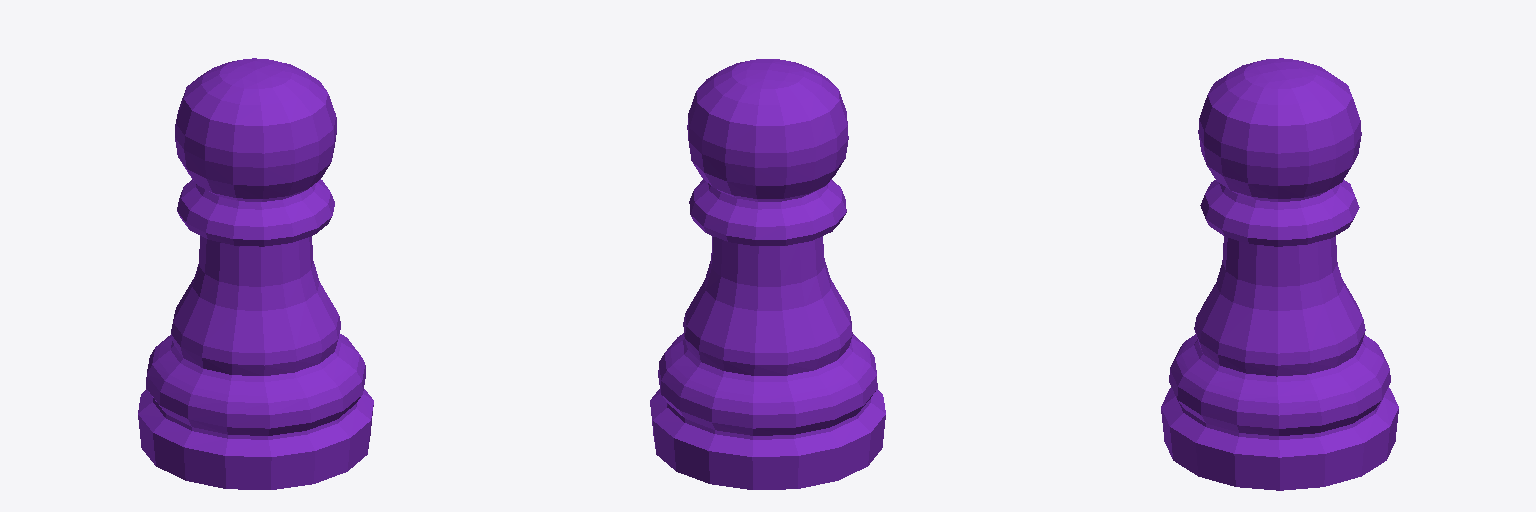
Rendered from pawn.obj.
The picture shows the model from 3 angles: view 1: azimuth 30°, elevation 25°; view 2: azimuth 150°, elevation 25°; view 3: azimuth 270°, elevation 25°; orthographic projection.
Parts seen in each view (by area): view 1: PAWN; view 2: PAWN; view 3: PAWN.
Part boxes in pixels (bbox=[...]): PAWN: bbox=[138, 58, 373, 489]; PAWN: bbox=[650, 59, 885, 489]; PAWN: bbox=[1161, 58, 1398, 490].
Bounding box in the file's own units: 0.4862 × 0.8375 × 0.4862.